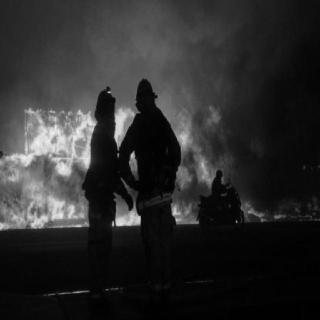Fire: (3, 63, 87, 233), (246, 196, 292, 224)
